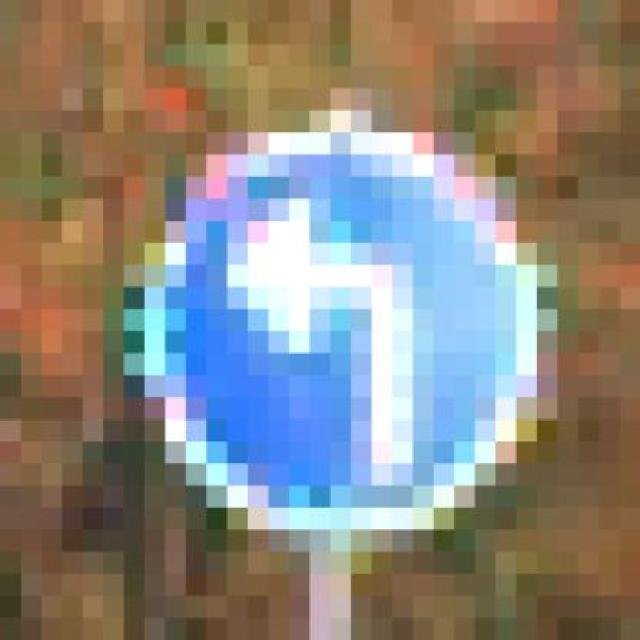Turn left ahead: (103, 110, 579, 552)
